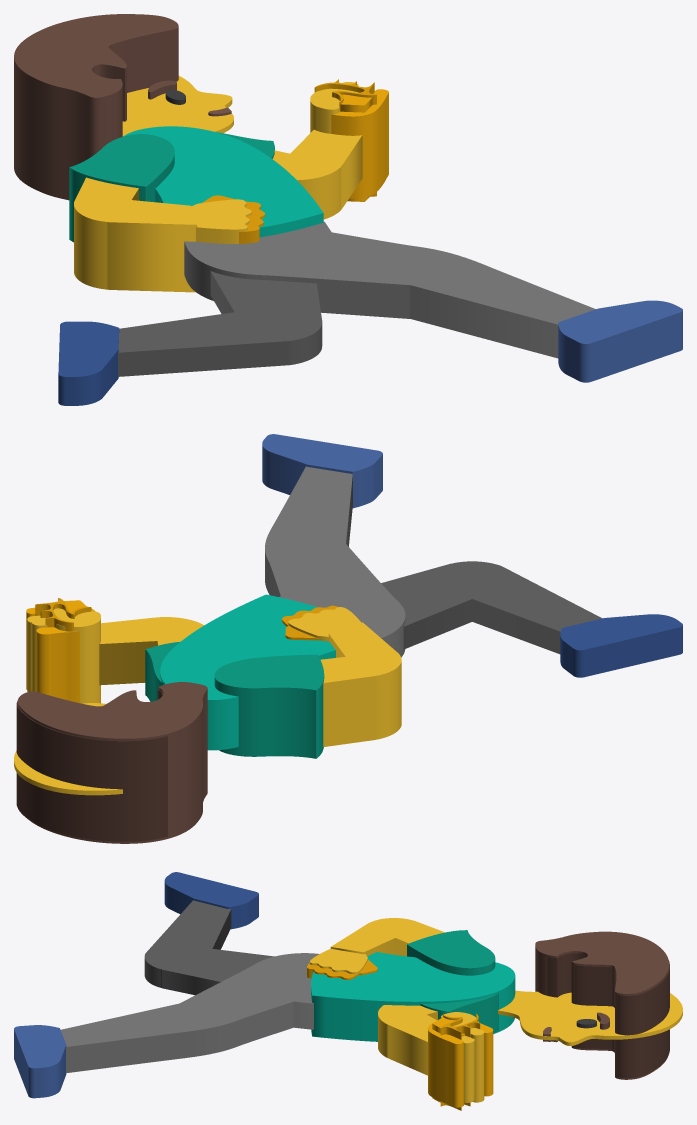
Rendered from emoji_u1f3c3_200d_2642_200d_27a1.glb.
3 views of the same model, one above another, from view 1: azimuth 30°, elevation 25°; view 2: azimuth 150°, elevation 25°; view 3: azimuth 270°, elevation 25° (orthographic). The views are drawn at different scales.
Visible parts, largest first — view 1: emoji_u1f3c3_200d_2642_200d_27a1; view 2: emoji_u1f3c3_200d_2642_200d_27a1; view 3: emoji_u1f3c3_200d_2642_200d_27a1.
Boxes of the visible parts, x1=… form: emoji_u1f3c3_200d_2642_200d_27a1: x1=14, y1=14, x2=682, y2=405; emoji_u1f3c3_200d_2642_200d_27a1: x1=14, y1=434, x2=682, y2=843; emoji_u1f3c3_200d_2642_200d_27a1: x1=14, y1=872, x2=682, y2=1110.
Bounding box in the file's own units: 0.023 × 0.0046 × 0.0325.
